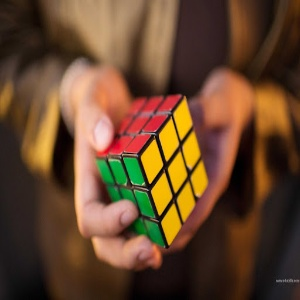cube: (96, 92, 210, 251)
